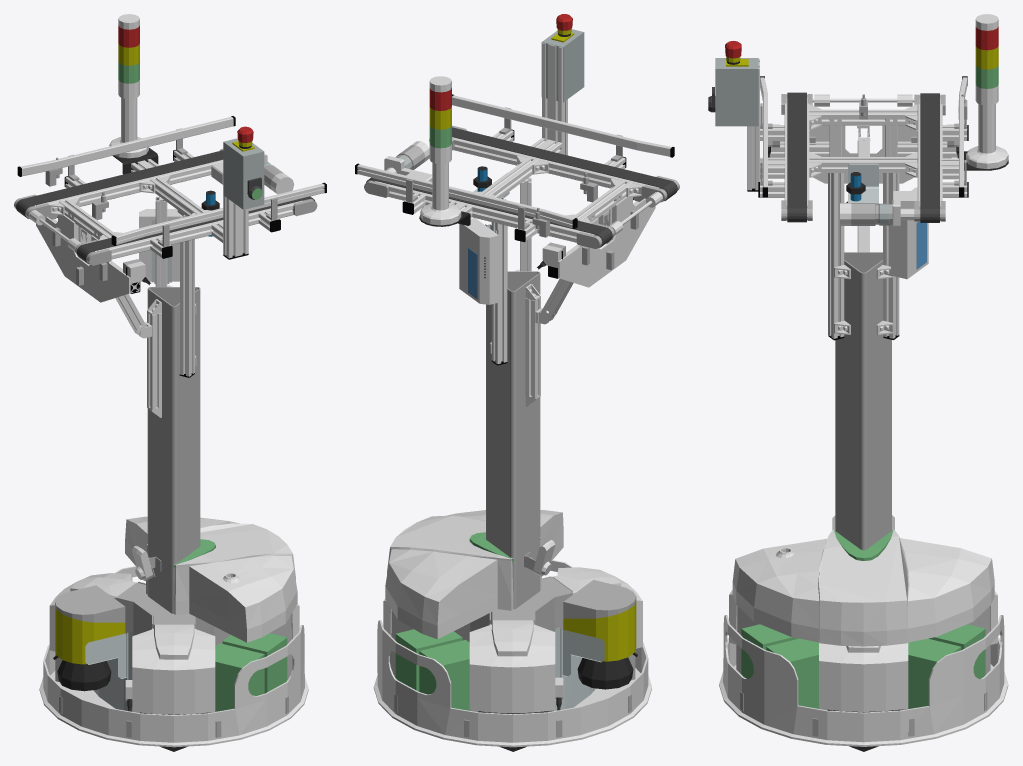
3 renders of one model, left to right at view 1: azimuth 30°, elevation 25°; view 2: azimuth 150°, elevation 25°; view 3: azimuth 270°, elevation 25°, orthographic. The views are drawn at different scales.
Parts seen in each view (by area): view 1: M1635.I817, M1651.I825, M1631.I815, M1649.I824, M1711.I855, M1733.I866, M1743.I871, M1765.I882, M1721.I860, M1675.I837, M1683.I841, M1709.I854 (+20 smaller); view 2: M1635.I817, M1651.I825, M1631.I815, M1647.I823, M1711.I855, M1733.I866, M1715.I857, M1729.I864, M1683.I841, M1679.I839, M1751.I875, M1685.I842 (+21 smaller); view 3: M1651.I825, M1631.I815, M1635.I817, M1645.I822, M1711.I855, M1765.I882, M1729.I864, M1721.I860, M1709.I854, M1751.I875, M1681.I840, M1677.I838 (+17 smaller).
Part boxes in pixels (<box>): M1635.I817: <box>147,287,200,613</box>; M1651.I825: <box>125,516,297,642</box>; M1631.I815: <box>39,566,308,747</box>; M1649.I824: <box>132,624,215,714</box>; M1711.I855: <box>69,175,324,366</box>; M1733.I866: <box>36,215,130,302</box>; M1743.I871: <box>20,116,233,176</box>; M1765.I882: <box>223,138,264,209</box>; M1721.I860: <box>16,150,223,218</box>; M1675.I837: <box>215,643,264,711</box>; M1683.I841: <box>55,606,125,664</box>; M1709.I854: <box>180,215,194,376</box>; M1635.I817: <box>486,271,540,609</box>; M1651.I825: <box>385,510,563,639</box>; M1631.I815: <box>373,560,651,747</box>; M1647.I823: <box>469,620,555,713</box>; M1711.I855: <box>452,95,671,364</box>; M1733.I866: <box>558,197,655,287</box>; M1715.I857: <box>459,218,498,304</box>; M1729.I864: <box>452,127,677,200</box>; M1683.I841: <box>563,601,636,661</box>; M1679.I839: <box>419,639,470,710</box>; M1751.I875: <box>420,76,461,225</box>; M1685.I842: <box>563,580,636,618</box>; M1651.I825: <box>732,529,994,646</box>; M1631.I815: <box>719,615,1008,746</box>; M1635.I817: <box>835,252,891,550</box>; M1645.I822: <box>819,643,908,711</box>; M1711.I855: <box>760,77,958,338</box>; M1765.I882: <box>715,58,758,126</box>; M1729.I864: <box>787,92,806,222</box>; M1721.I860: <box>920,93,939,222</box>; M1709.I854: <box>828,173,844,338</box>; M1751.I875: <box>966,14,1008,169</box>; M1681.I840: <box>906,638,961,709</box>; M1677.I838: <box>766,638,820,709</box>.
Bounding box in the file's own units: 47.99 × 122 × 48.38.
